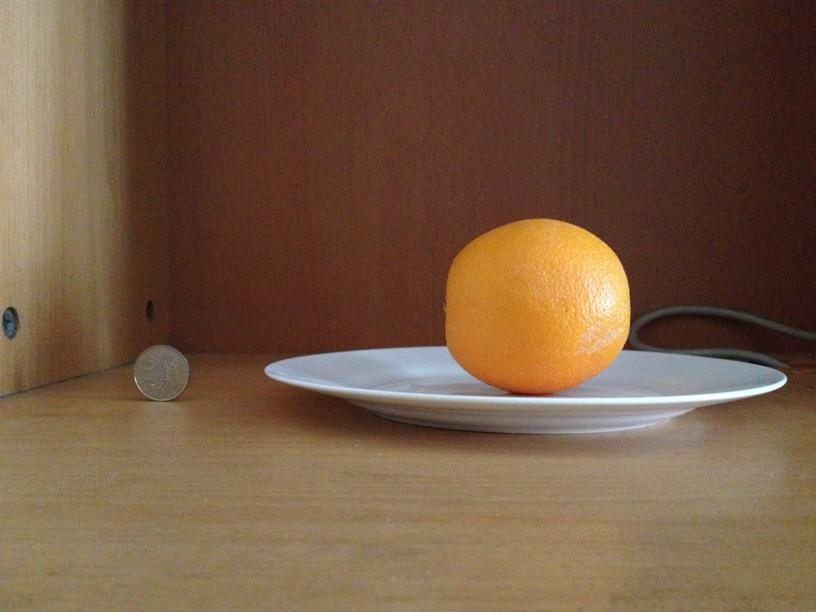coin: (130, 343, 189, 402)
orange: (434, 218, 633, 394)
